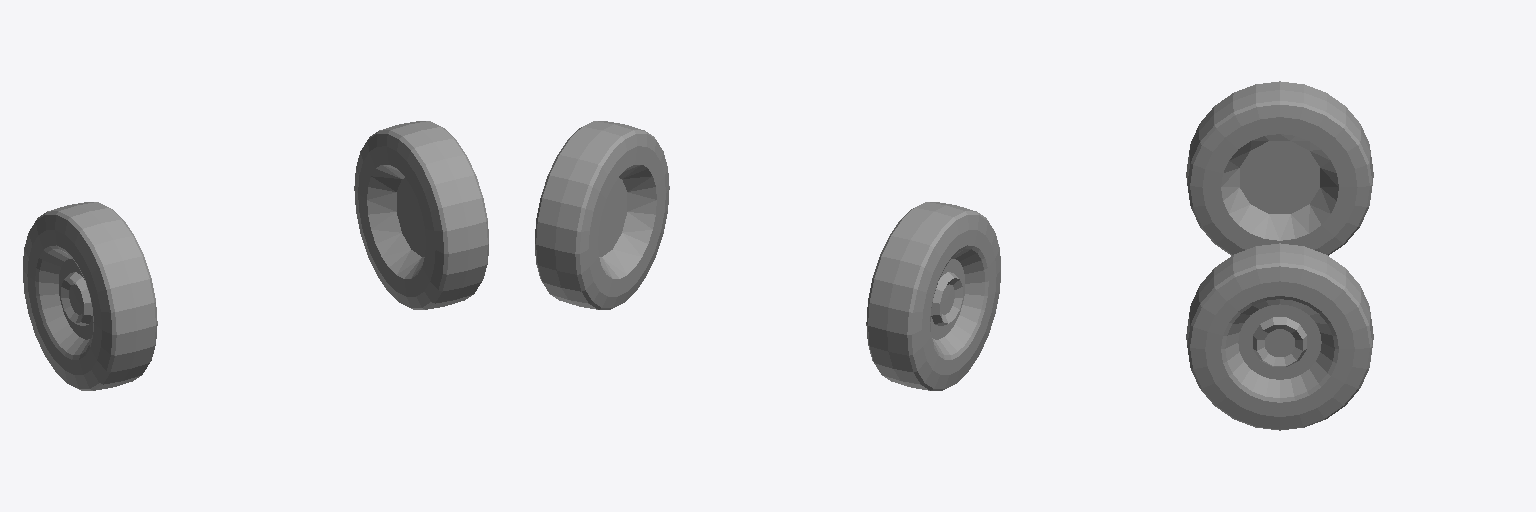
The model's file is BuggyWheels.obj.
The picture shows the model from 3 angles: view 1: azimuth 30°, elevation 25°; view 2: azimuth 150°, elevation 25°; view 3: azimuth 270°, elevation 25°; orthographic projection.
Visible parts, largest first — view 1: BuggyWheels.002, BuggyWheels; view 2: BuggyWheels, BuggyWheels.002; view 3: BuggyWheels.002, BuggyWheels.
Part boxes in pixels (x1,y1,x2,y2): BuggyWheels.002: (354, 121, 488, 309); BuggyWheels: (23, 202, 157, 390); BuggyWheels: (866, 202, 1000, 390); BuggyWheels.002: (535, 121, 669, 309); BuggyWheels.002: (1186, 243, 1373, 430); BuggyWheels: (1186, 81, 1373, 255).
Bounding box in the file's own units: 4.55 × 1.94 × 1.94.